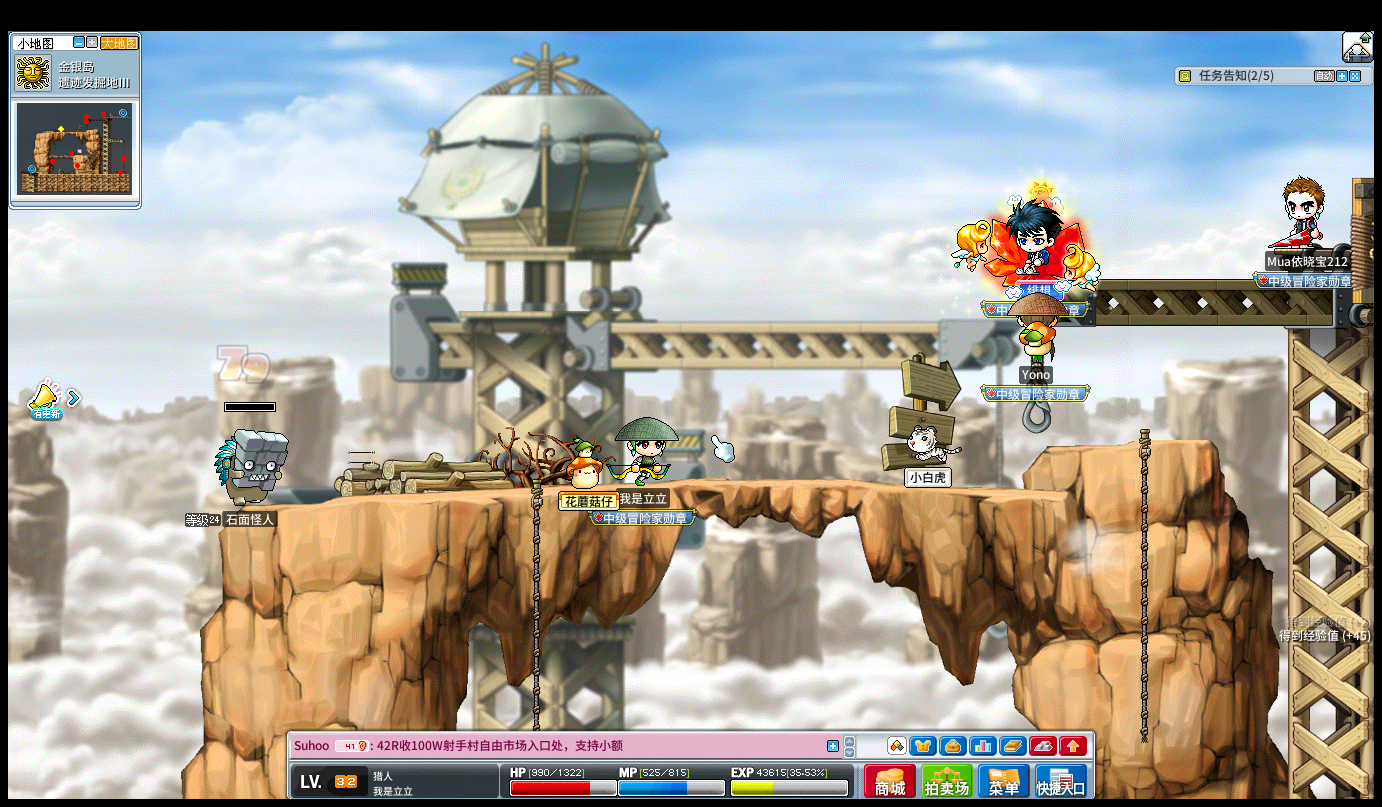floor: (235, 475, 1121, 498), (1047, 437, 1212, 451), (1044, 435, 1212, 448)
monster: (212, 429, 288, 505)
rope: (1136, 422, 1152, 755), (1136, 427, 1150, 660), (529, 478, 542, 706)
